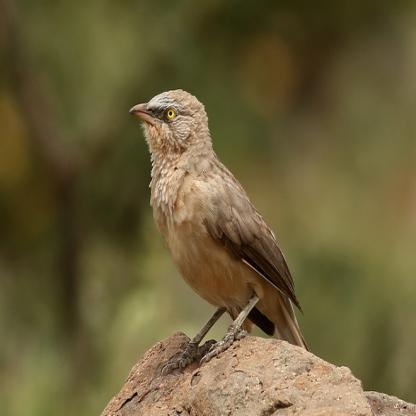Burung: (128, 87, 309, 372)
